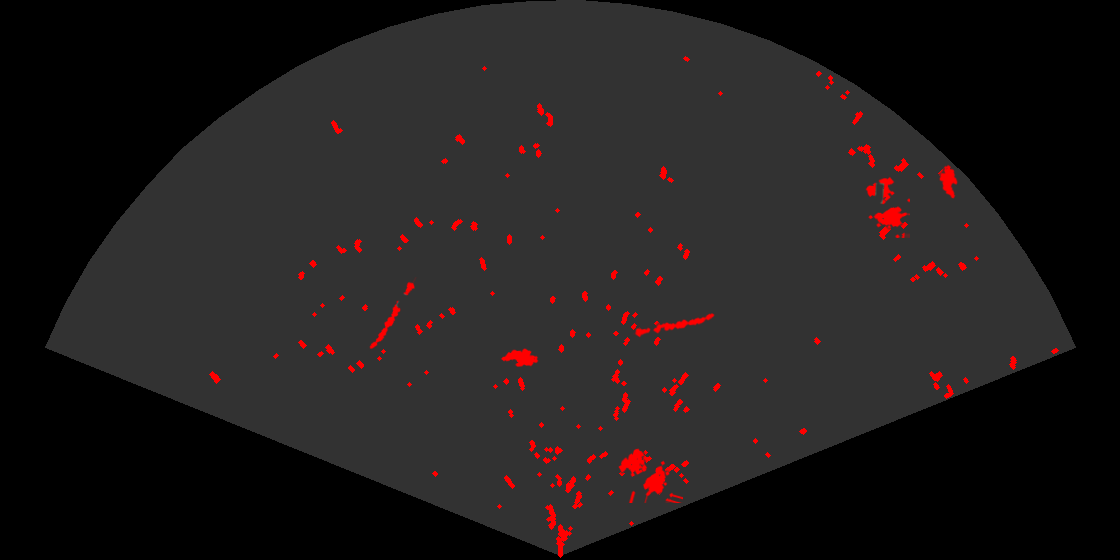AUV: (499, 347, 540, 368), (938, 163, 959, 200)
cage: (617, 447, 683, 503), (864, 175, 910, 238)
chain: (368, 277, 418, 351), (633, 312, 716, 339)
